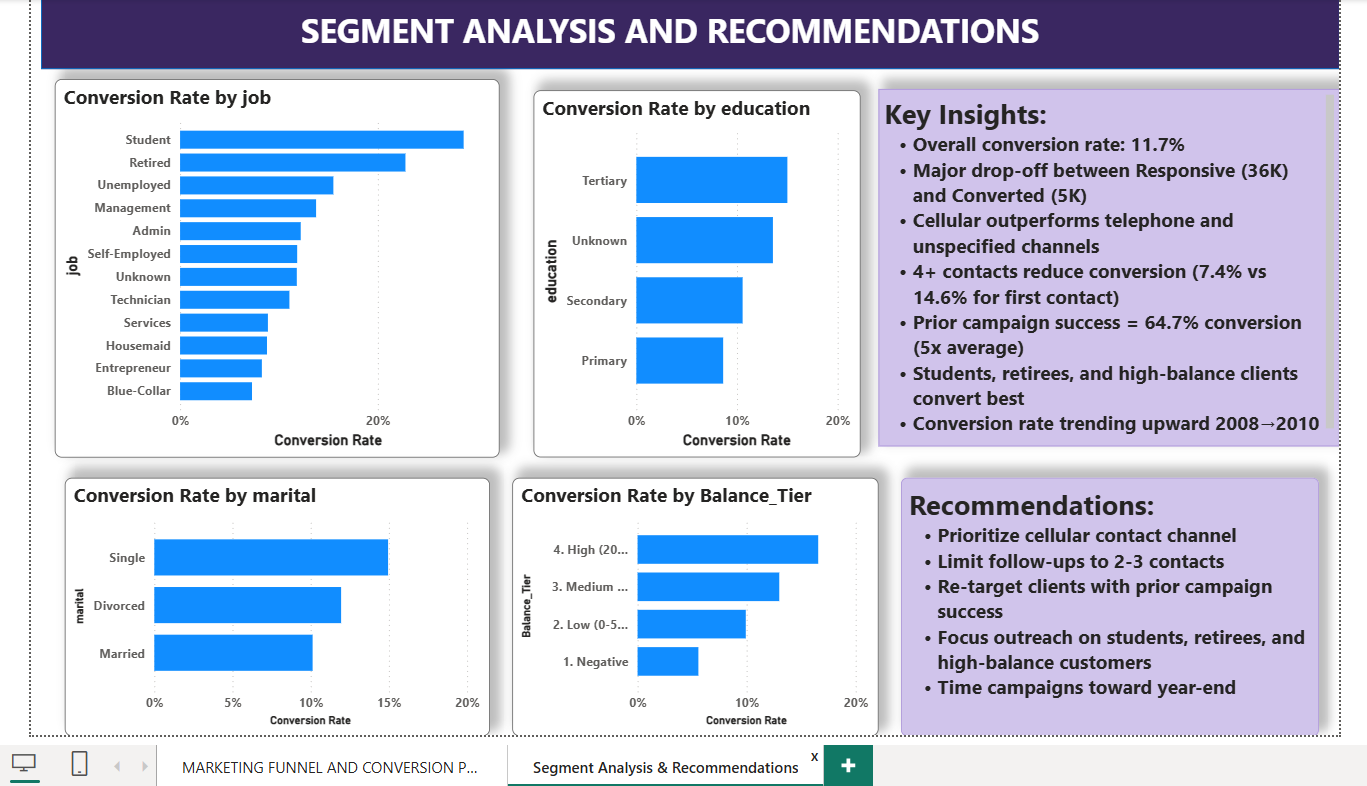

What the dashboard file says about the page in this screenshot:
{"tool":"powerbi","page":{"name":"Segment Analysis & Recommendations","canvas":[1280,720],"ordinal":1},"visuals":[{"type":"clusteredBarChart","fields":{"Category":["bank_marketing_funnel.job"],"Y":["DateTable.Conversion Rate"]},"box":[23.3,78.2,435,370.5],"z":0},{"type":"clusteredBarChart","fields":{"Category":["bank_marketing_funnel.marital"],"Y":["DateTable.Conversion Rate"]},"box":[32.9,467.9,415.8,252.5],"z":1000},{"type":"clusteredBarChart","fields":{"Category":["bank_marketing_funnel.education"],"Y":["DateTable.Conversion Rate"]},"box":[491.3,89.2,319.7,359.5],"z":2000},{"type":"textbox","box":[828.8,87.8,451.5,349.9],"z":3000},{"type":"textbox","box":[850.8,467.9,408.9,252.5],"z":4000},{"type":"clusteredBarChart","fields":{"Y":["DateTable.Conversion Rate"],"Category":["bank_marketing_funnel.Balance_Tier"]},"box":[470.7,467.9,358.1,252.5],"z":5000},{"type":"shape","box":[9.6,0,1270.7,68.6],"z":6000},{"type":"textbox","title":"SEGMENT ANALYSIS AND RECOMMENDATIONS","box":[259.3,8.2,820.6,52.1],"z":8000}]}

Visuals, with their boxes on the page's 1280x720 design canvas (x1, y1, x2, y2). These are canvas units, not pixel positions in the 1367x786 screenshot, which may show the page scaled, cropped or inside an application window:
clusteredBarChart - bank_marketing_funnel.job x DateTable.Conversion Rate: detection(23, 78, 458, 449)
clusteredBarChart - bank_marketing_funnel.marital x DateTable.Conversion Rate: detection(33, 468, 449, 720)
clusteredBarChart - bank_marketing_funnel.education x DateTable.Conversion Rate: detection(491, 89, 811, 449)
textbox: detection(829, 88, 1280, 438)
textbox: detection(851, 468, 1260, 720)
clusteredBarChart - DateTable.Conversion Rate x bank_marketing_funnel.Balance_Tier: detection(471, 468, 829, 720)
shape: detection(10, 0, 1280, 69)
"SEGMENT ANALYSIS AND RECOMMENDATIONS" textbox: detection(259, 8, 1080, 60)
